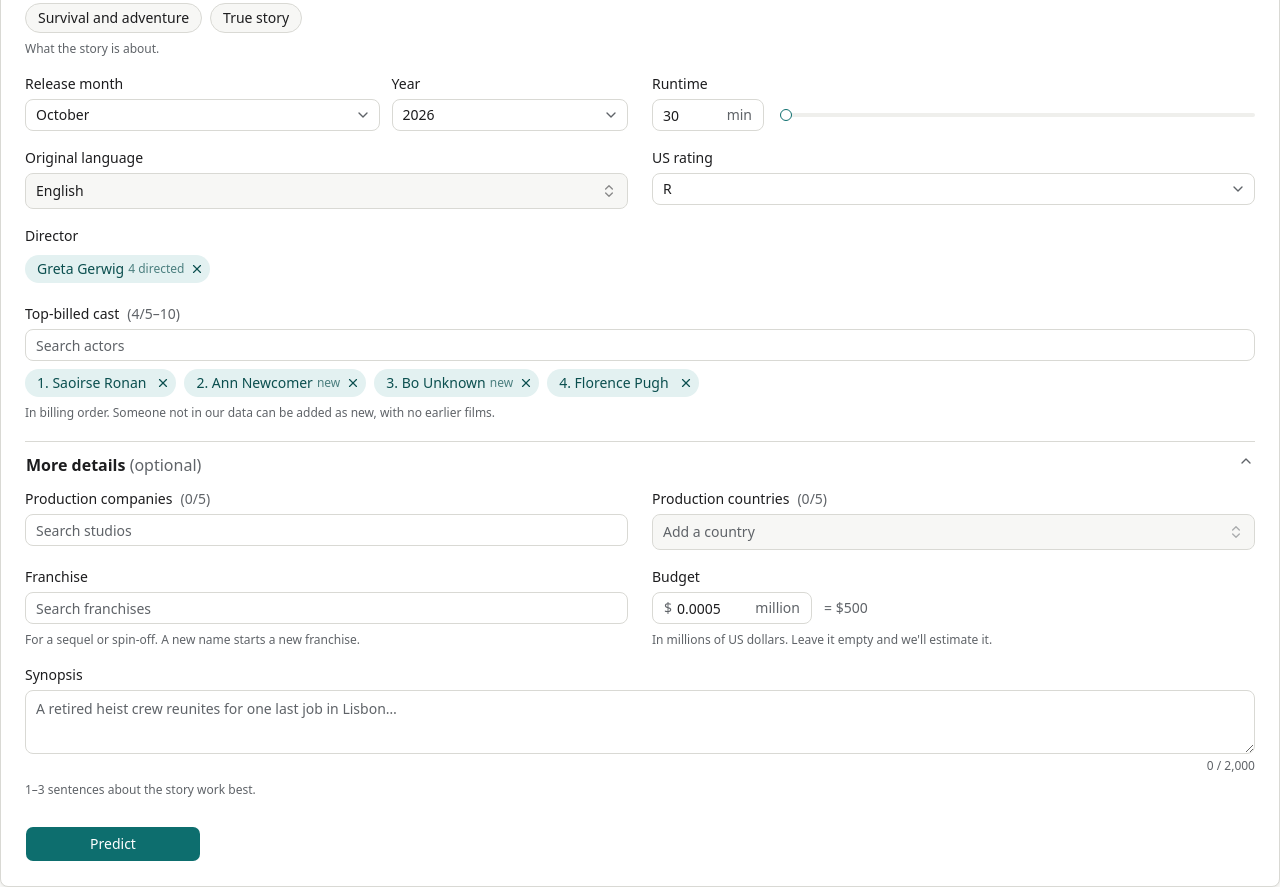
Test case: validation blocks a bad form › 4 actors, runtime 30 and a $500 budget each get their message; "More details" opens for the budget
(page scrolled)
Click the button "Predict" at (113, 844), box 25,826 -> 201,862
(page scrolled)
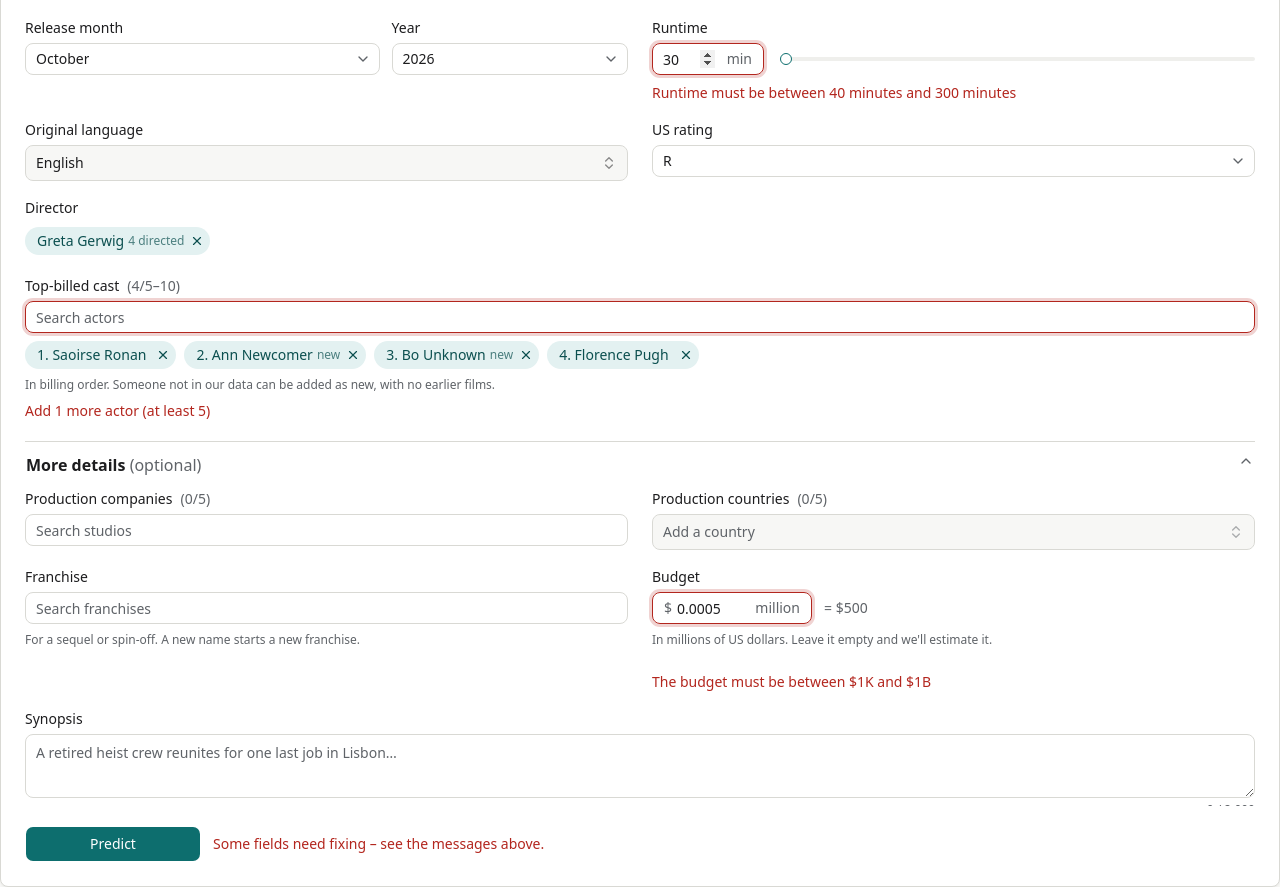
Check: the text "Add 1 more actor (at least 5)" is shown, box 25,401 -> 210,420
Check: the message "Runtime must be between 40 minutes and 300 minutes" is shown, box 652,83 -> 1016,102
Check: the message "The budget must be between $1K and $1B" is shown, box 652,672 -> 931,691
